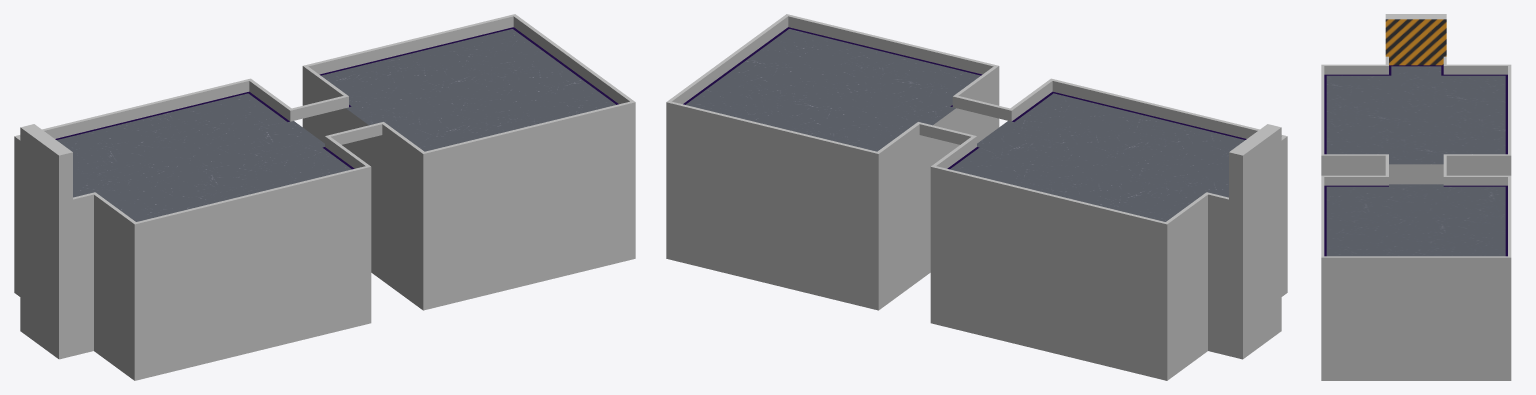
Rendered from Duel_A1_Stage_Bridge_2.fbx.
3 views of the same model, side by side, from view 1: azimuth 30°, elevation 25°; view 2: azimuth 150°, elevation 25°; view 3: azimuth 270°, elevation 25° (orthographic). The views are drawn at different scales.
Visible parts, largest first — view 1: Plane.101, Plane.102, Plane.103, Plane.107; view 2: Plane.101, Plane.102, Plane.103, Plane.107; view 3: Plane.101, Plane.102, Plane.103.
Part boxes in pixels (left/top/right/bottom): Plane.101: left=14, top=29, right=635, bottom=380; Plane.102: left=14, top=14, right=635, bottom=235; Plane.103: left=55, top=27, right=618, bottom=169; Plane.107: left=292, top=96, right=382, bottom=144; Plane.101: left=666, top=29, right=1287, bottom=380; Plane.102: left=666, top=14, right=1287, bottom=235; Plane.103: left=683, top=27, right=1246, bottom=169; Plane.107: left=919, top=96, right=1009, bottom=144; Plane.101: left=1321, top=14, right=1511, bottom=380; Plane.102: left=1321, top=56, right=1511, bottom=265; Plane.103: left=1324, top=65, right=1507, bottom=256.
Bounding box in the file's own units: 7700 × 2800 × 3242.
